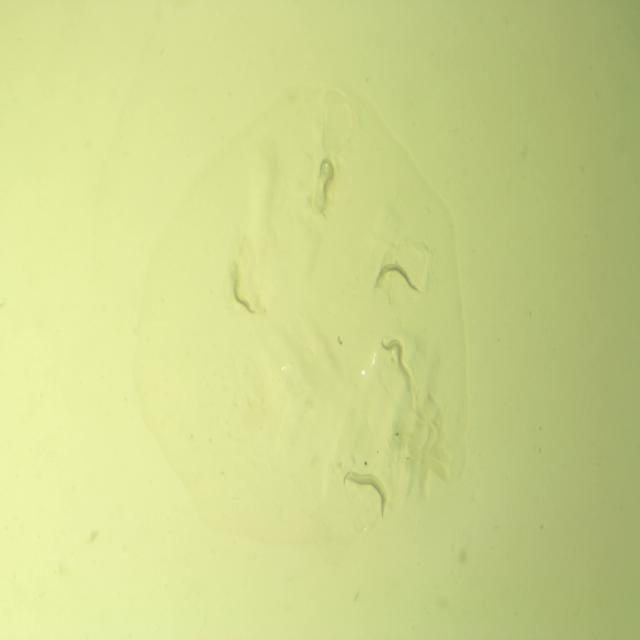worm: (340, 468, 388, 510), (346, 472, 386, 522), (373, 259, 422, 298), (312, 153, 337, 215), (231, 262, 258, 318), (378, 333, 411, 378)
